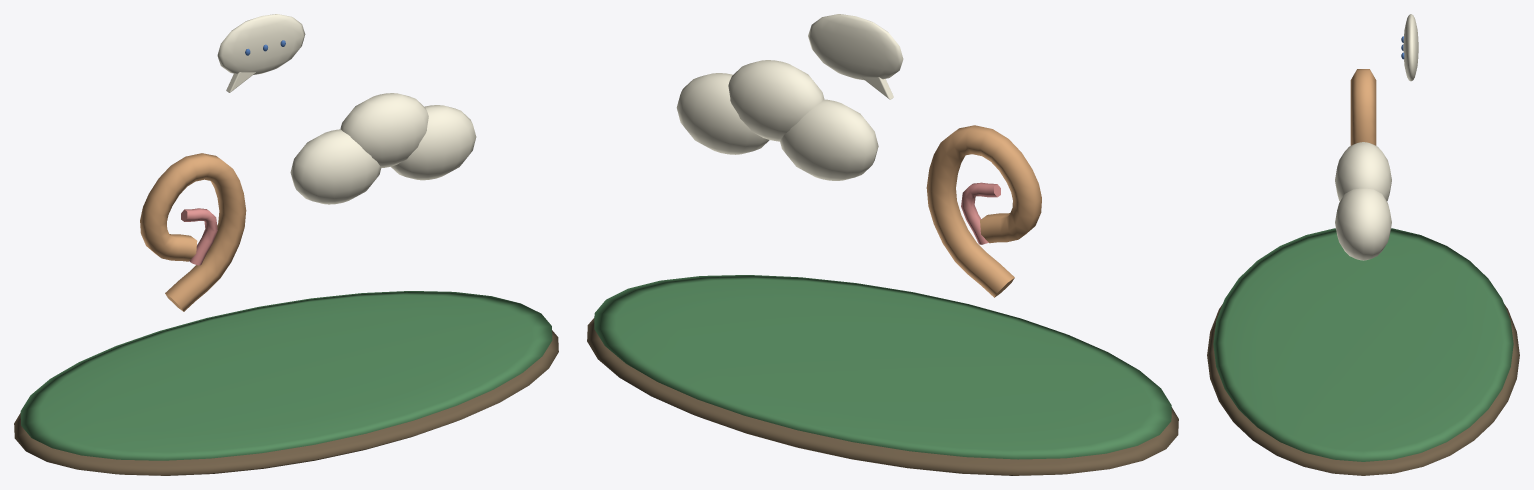
File: complete-third-ear-chat-sky.glb
3 renders of one model, left to right at view 1: azimuth 30°, elevation 25°; view 2: azimuth 150°, elevation 25°; view 3: azimuth 270°, elevation 25°, orthographic. The views are drawn at different scales.
Visible parts, largest first — view 1: complete-third-ear-chat-sky_surface_01, complete-third-ear-chat-sky_surface_04, complete-third-ear-chat-sky_surface_00, complete-third-ear-chat-sky_surface_02, complete-third-ear-chat-sky_surface_03; view 2: complete-third-ear-chat-sky_surface_01, complete-third-ear-chat-sky_surface_04, complete-third-ear-chat-sky_surface_00, complete-third-ear-chat-sky_surface_02, complete-third-ear-chat-sky_surface_03; view 3: complete-third-ear-chat-sky_surface_01, complete-third-ear-chat-sky_surface_04, complete-third-ear-chat-sky_surface_00, complete-third-ear-chat-sky_surface_02.
Boxes of the visible parts, bbox=[...] form: complete-third-ear-chat-sky_surface_01: bbox=[20, 291, 552, 460]; complete-third-ear-chat-sky_surface_04: bbox=[217, 14, 476, 204]; complete-third-ear-chat-sky_surface_00: bbox=[14, 330, 558, 475]; complete-third-ear-chat-sky_surface_02: bbox=[140, 153, 246, 311]; complete-third-ear-chat-sky_surface_03: bbox=[181, 208, 217, 265]; complete-third-ear-chat-sky_surface_01: bbox=[594, 275, 1171, 459]; complete-third-ear-chat-sky_surface_04: bbox=[676, 14, 903, 180]; complete-third-ear-chat-sky_surface_00: bbox=[587, 318, 1178, 475]; complete-third-ear-chat-sky_surface_02: bbox=[926, 125, 1041, 297]; complete-third-ear-chat-sky_surface_03: bbox=[961, 182, 1000, 244]; complete-third-ear-chat-sky_surface_01: bbox=[1213, 228, 1513, 461]; complete-third-ear-chat-sky_surface_04: bbox=[1335, 14, 1418, 260]; complete-third-ear-chat-sky_surface_00: bbox=[1207, 304, 1519, 475]; complete-third-ear-chat-sky_surface_02: bbox=[1350, 69, 1376, 145].
Bounding box in the file's own units: 4.56 × 3.08 × 2.5.
